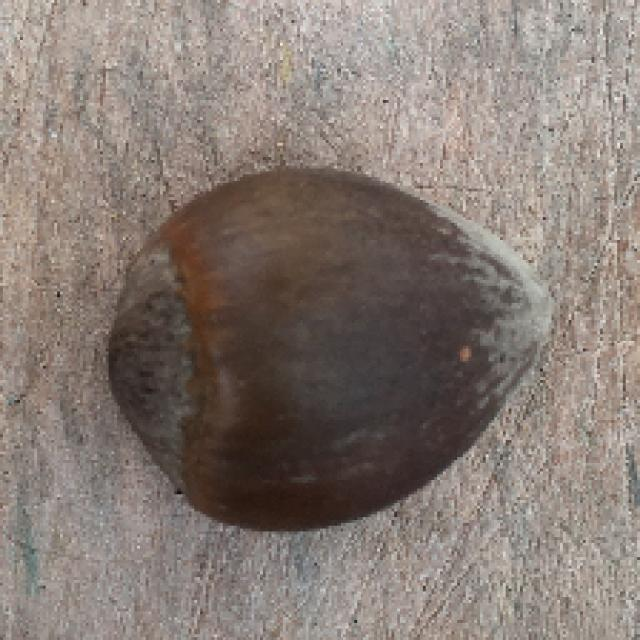DamagedHazelnut: (109, 166, 561, 531)
